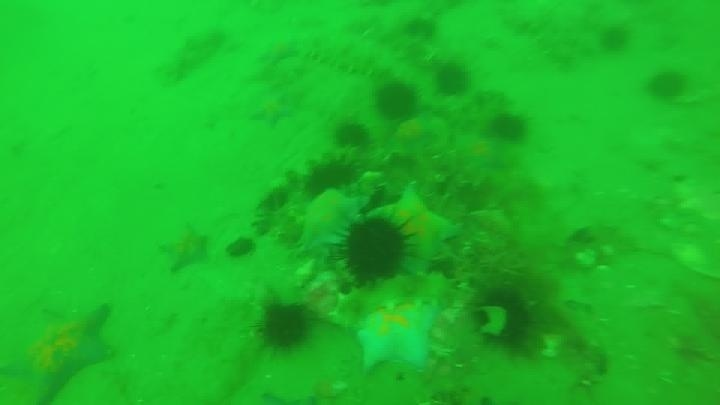echinus: (337, 216, 412, 284), (472, 285, 537, 349), (257, 301, 312, 353), (303, 157, 359, 200), (373, 81, 420, 123), (645, 68, 689, 103), (433, 61, 472, 99), (487, 111, 530, 144), (254, 185, 292, 217), (332, 120, 371, 151), (598, 24, 632, 55), (402, 15, 439, 42), (225, 234, 258, 261)
holothurian: (327, 270, 456, 330), (505, 6, 589, 70), (300, 35, 394, 81), (157, 26, 227, 85)
scallop: (671, 237, 720, 282)
starfish: (3, 302, 116, 404), (366, 183, 461, 265), (353, 302, 442, 375), (296, 187, 365, 254), (157, 225, 212, 275), (452, 133, 506, 173), (388, 115, 439, 157), (248, 93, 296, 129), (257, 37, 302, 67)
